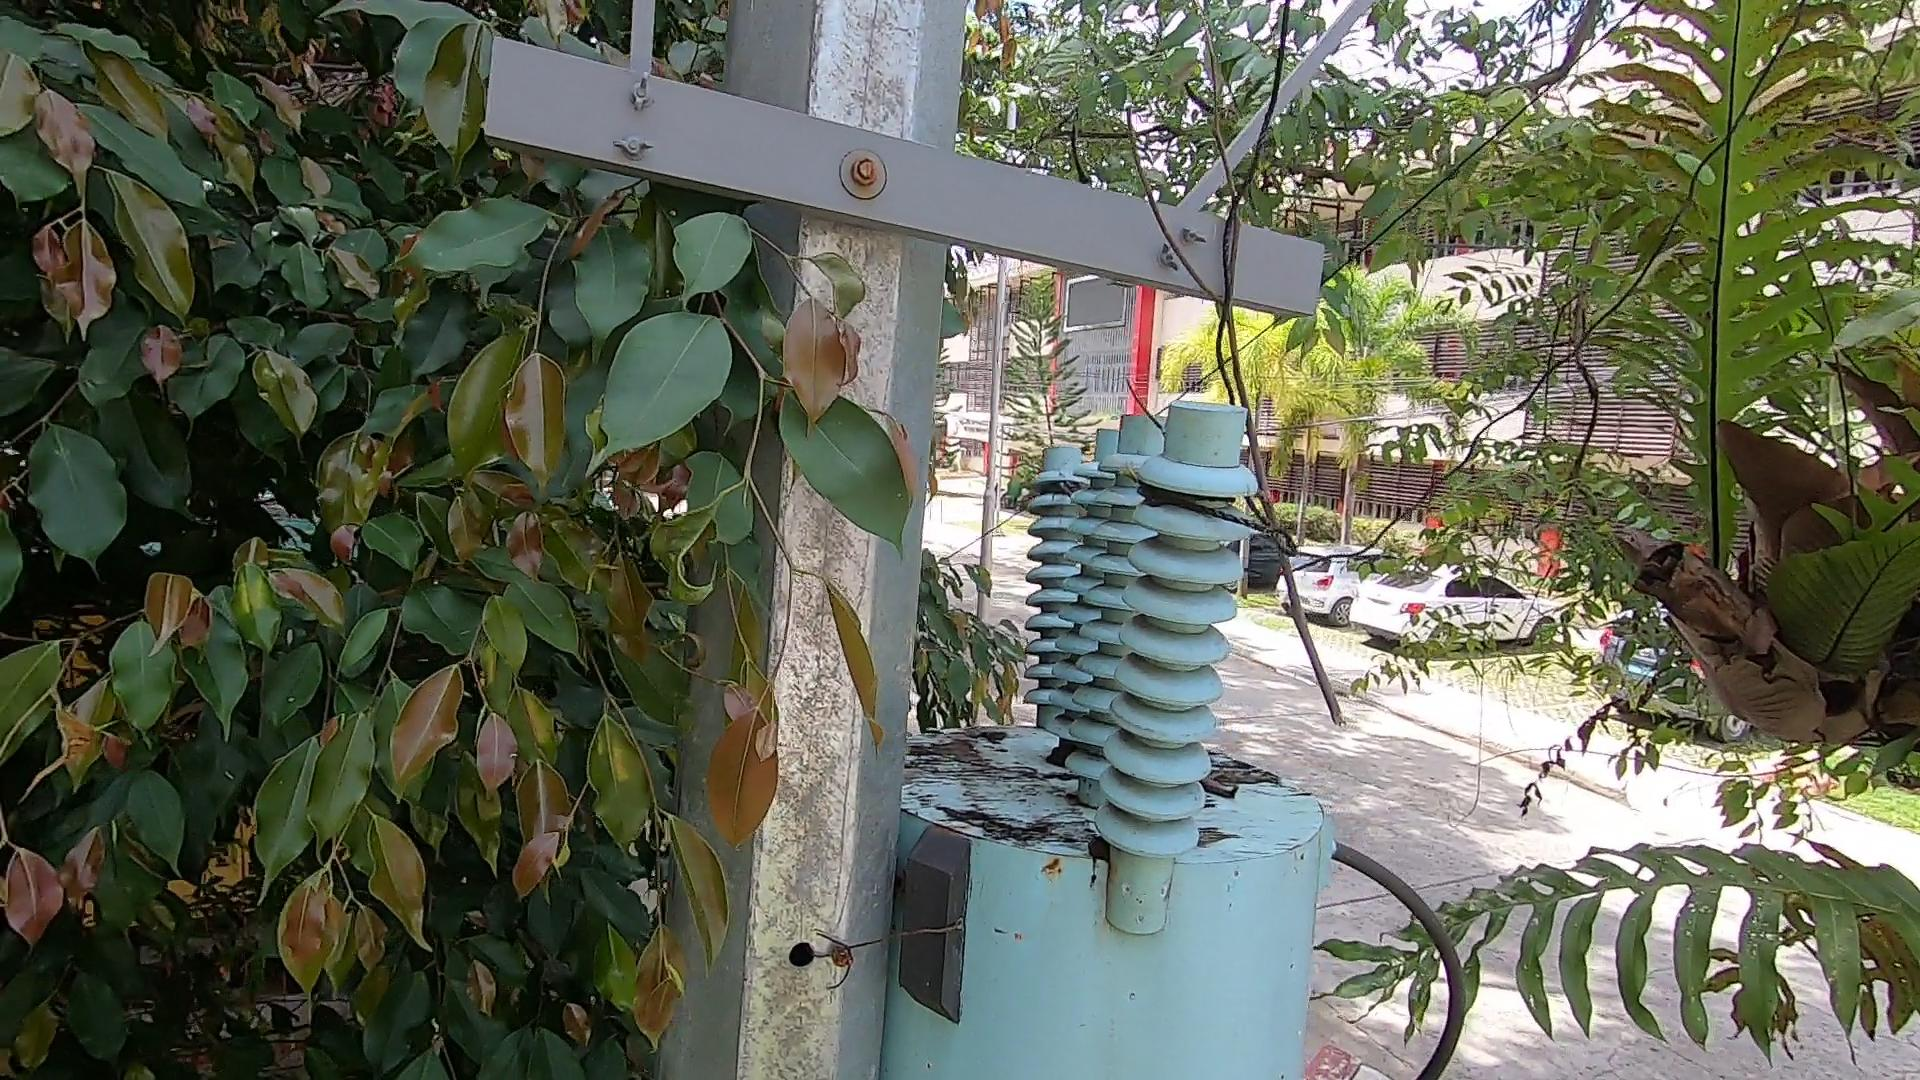leaf: (1197, 767, 1244, 808)
tree branch: (1098, 18, 1389, 741)
